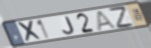1: (36, 18, 51, 40)
2: (77, 12, 96, 34)
A: (96, 9, 119, 31)
J: (62, 15, 76, 35)
X: (16, 20, 44, 43)
Z: (107, 6, 137, 30)
